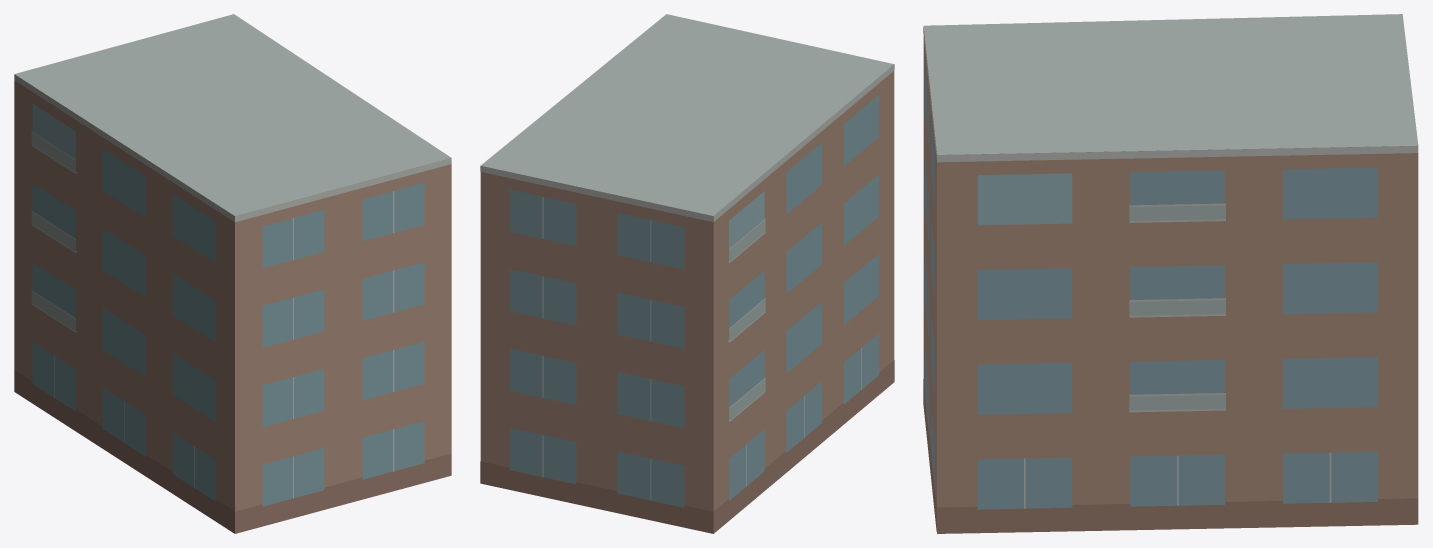
The model's file is survey-upis-32629180.glb.
3 views of the same model, side by side, from view 1: azimuth 30°, elevation 25°; view 2: azimuth 150°, elevation 25°; view 3: azimuth 270°, elevation 25° (orthographic). The views are drawn at different scales.
Visible parts, largest first — view 1: survey-upis-32629180.tmp; view 2: survey-upis-32629180.tmp; view 3: survey-upis-32629180.tmp.
Part boxes in pixels (box(x1,y1,x2,y2)): survey-upis-32629180.tmp: box(14, 14, 451, 533); survey-upis-32629180.tmp: box(480, 14, 894, 533); survey-upis-32629180.tmp: box(923, 14, 1418, 533).
Size of the model in its own units: 10.14 by 12.7 by 15.04.
